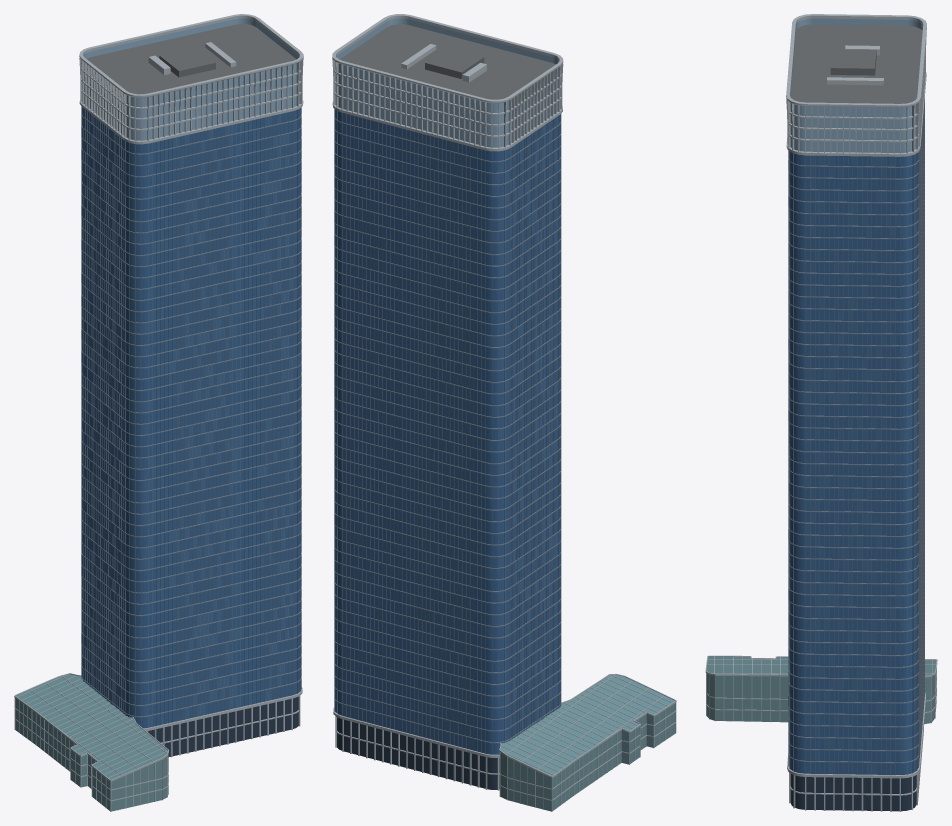
The model's file is brookfield-place-calgary-near.glb.
3 views of the same model, side by side, from view 1: azimuth 30°, elevation 25°; view 2: azimuth 150°, elevation 25°; view 3: azimuth 270°, elevation 25° (orthographic). The views are drawn at different scales.
Visible parts, largest first — view 1: brookfield-place-calgary-0-glass, brookfield-place-calgary-0-mullion, brookfield-place-calgary-0-glow, brookfield-place-calgary-0-frame, brookfield-place-calgary-0-pglass, brookfield-place-calgary-0-roof, brookfield-place-calgary-0-light, brookfield-place-calgary-0-lobby; view 2: brookfield-place-calgary-0-glass, brookfield-place-calgary-0-mullion, brookfield-place-calgary-0-glow, brookfield-place-calgary-0-frame, brookfield-place-calgary-0-pglass, brookfield-place-calgary-0-roof, brookfield-place-calgary-0-light, brookfield-place-calgary-0-lobby; view 3: brookfield-place-calgary-0-glass, brookfield-place-calgary-0-mullion, brookfield-place-calgary-0-glow, brookfield-place-calgary-0-frame, brookfield-place-calgary-0-roof, brookfield-place-calgary-0-light, brookfield-place-calgary-0-pglass, brookfield-place-calgary-0-lobby.
Boxes of the visible parts, x1,y1,x2,y2 form: brookfield-place-calgary-0-glass: (82,107,301,728); brookfield-place-calgary-0-mullion: (81,106,301,727); brookfield-place-calgary-0-glow: (81,108,301,727); brookfield-place-calgary-0-frame: (14,14,303,811); brookfield-place-calgary-0-pglass: (15,674,168,811); brookfield-place-calgary-0-roof: (86,24,296,94); brookfield-place-calgary-0-light: (83,18,299,140); brookfield-place-calgary-0-lobby: (148,696,298,756); brookfield-place-calgary-0-glass: (335,110,560,754); brookfield-place-calgary-0-mullion: (334,109,561,754); brookfield-place-calgary-0-glow: (334,114,560,753); brookfield-place-calgary-0-frame: (332,14,676,811); brookfield-place-calgary-0-pglass: (500,675,675,811); brookfield-place-calgary-0-roof: (340,24,555,99); brookfield-place-calgary-0-light: (335,18,559,147); brookfield-place-calgary-0-lobby: (337,717,499,789); brookfield-place-calgary-0-glass: (789,151,918,774); brookfield-place-calgary-0-mullion: (788,97,924,774); brookfield-place-calgary-0-glow: (788,151,918,774); brookfield-place-calgary-0-frame: (705,14,937,811); brookfield-place-calgary-0-roof: (790,24,922,103); brookfield-place-calgary-0-light: (790,18,922,152); brookfield-place-calgary-0-pglass: (706,656,936,724); brookfield-place-calgary-0-lobby: (790,774,916,811).
Bounding box in the file's own units: 92.85 × 247 × 73.4.
